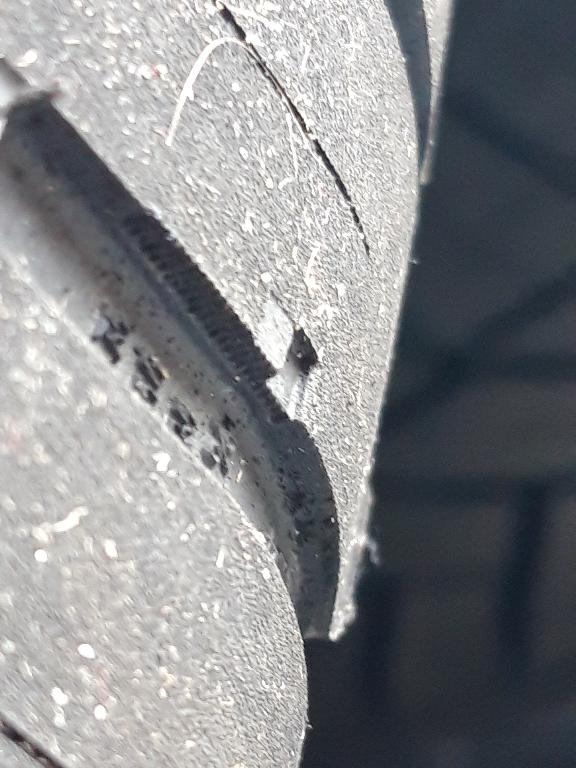temoin:25: (231, 288, 329, 445)
